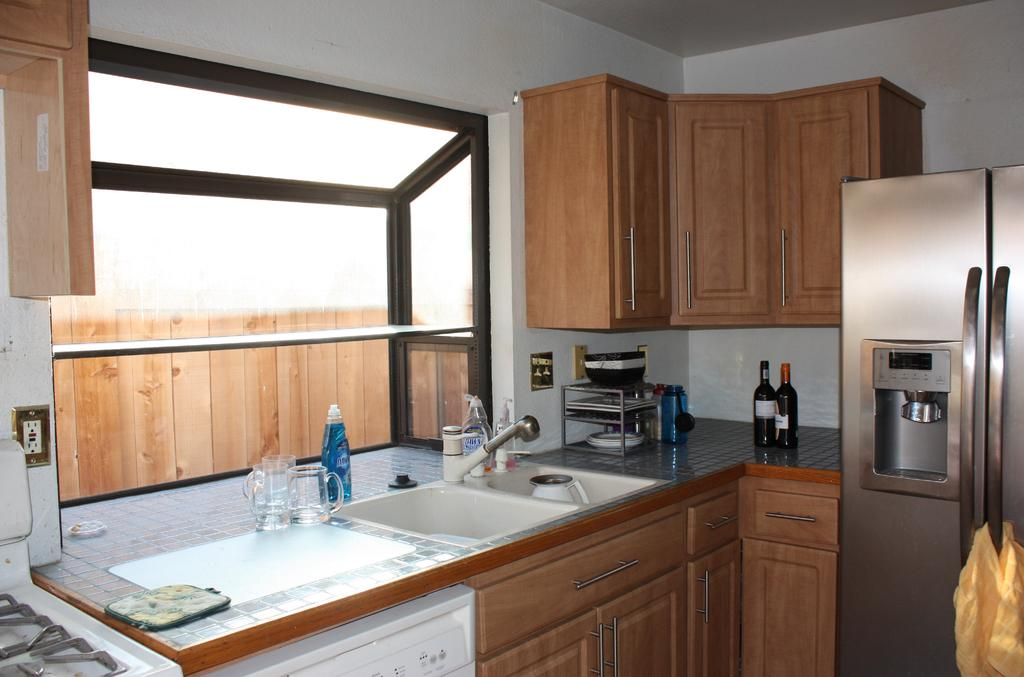cabinet_door: (668, 104, 766, 322), (774, 102, 870, 320), (466, 543, 686, 598), (744, 544, 834, 677), (614, 92, 666, 320), (593, 594, 687, 677), (687, 559, 743, 677), (482, 622, 602, 677), (754, 490, 838, 542), (694, 500, 736, 542)
handle: (953, 264, 987, 580), (980, 264, 1006, 580), (560, 558, 646, 596), (763, 506, 827, 531), (623, 227, 641, 314), (604, 611, 626, 677), (694, 563, 716, 628), (778, 226, 792, 312), (682, 229, 696, 310), (587, 623, 607, 677), (706, 503, 728, 535)
